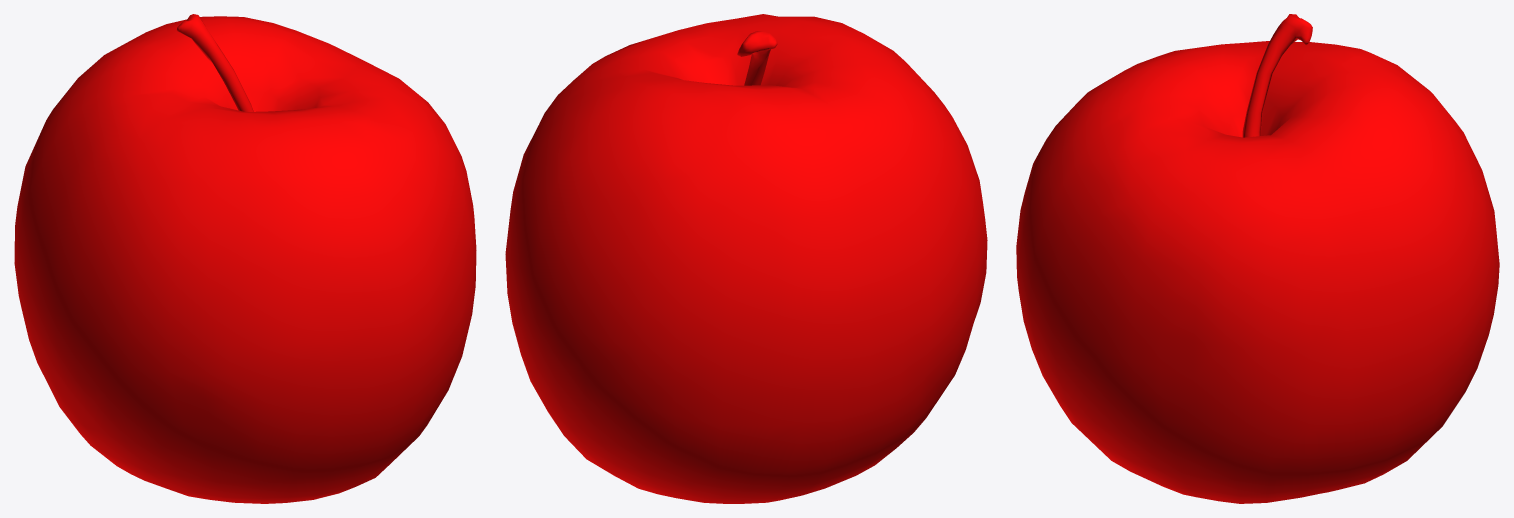
Rendered from appleuvw.obj.
3 views of the same model, side by side, from view 1: azimuth 30°, elevation 25°; view 2: azimuth 150°, elevation 25°; view 3: azimuth 270°, elevation 25° (orthographic). The views are drawn at different scales.
Visible parts, largest first — view 1: apple_low_obj; view 2: apple_low_obj; view 3: apple_low_obj.
Part boxes in pixels (x1,y1,x2,y2): apple_low_obj: (14, 14, 476, 503); apple_low_obj: (505, 14, 987, 503); apple_low_obj: (1016, 14, 1499, 503).
Bounding box in the file's own units: 76.34 × 79.5 × 82.14.
